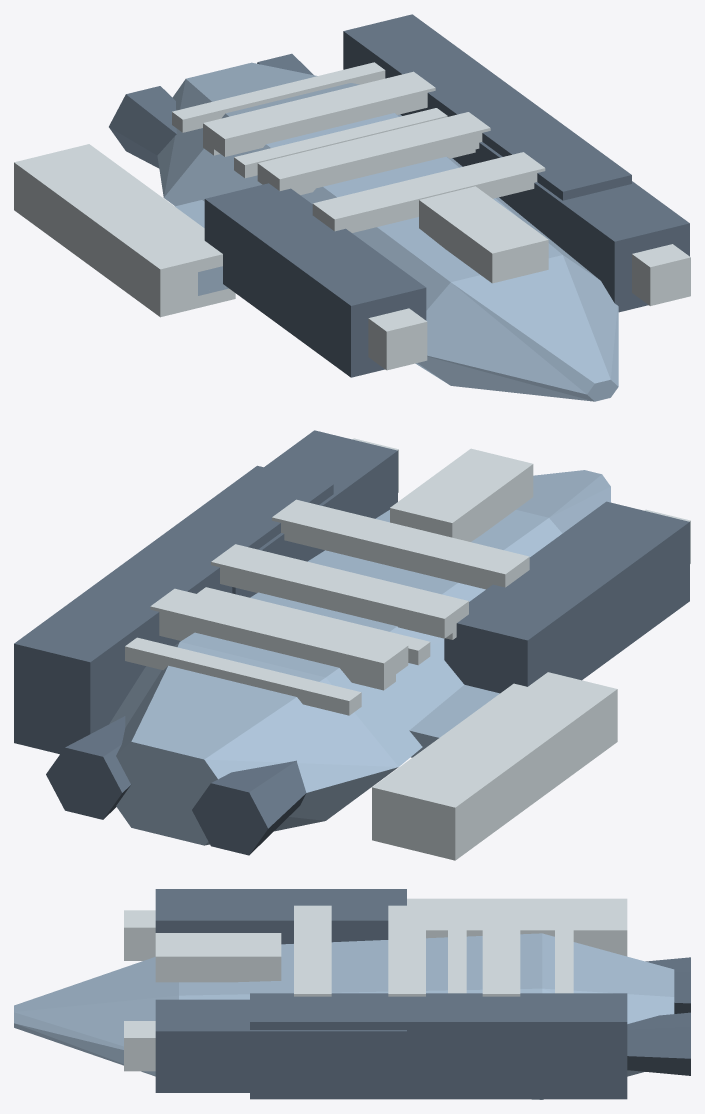
3 renders of one model, top to bottom at view 1: azimuth 30°, elevation 25°; view 2: azimuth 150°, elevation 25°; view 3: azimuth 270°, elevation 25°, orthographic. The views are drawn at different scales.
Size of the model in its own units: 2.59 by 0.9136 by 4.39.
